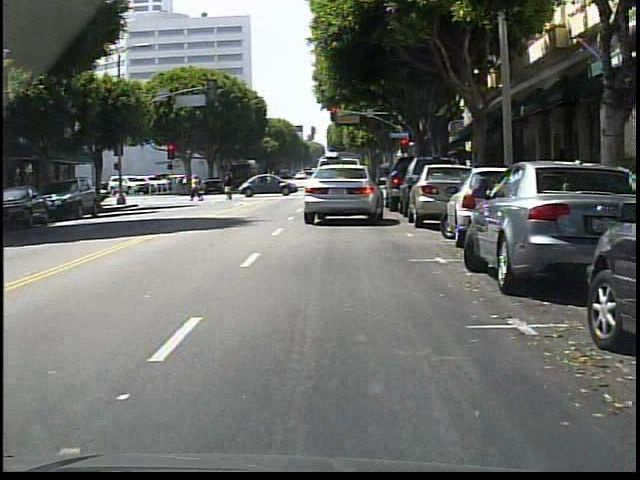person: (224, 172, 237, 201), (191, 174, 204, 200), (268, 172, 276, 191)
